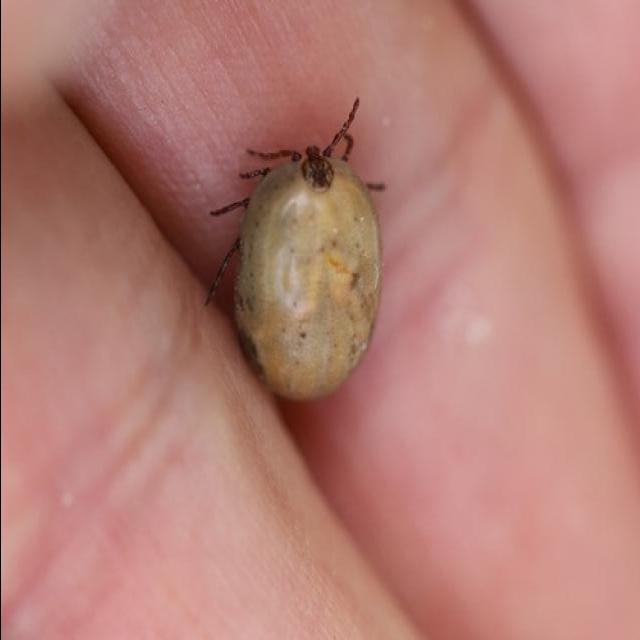Dermacentor Reticulatus-F-Fed: (204, 97, 385, 401)
